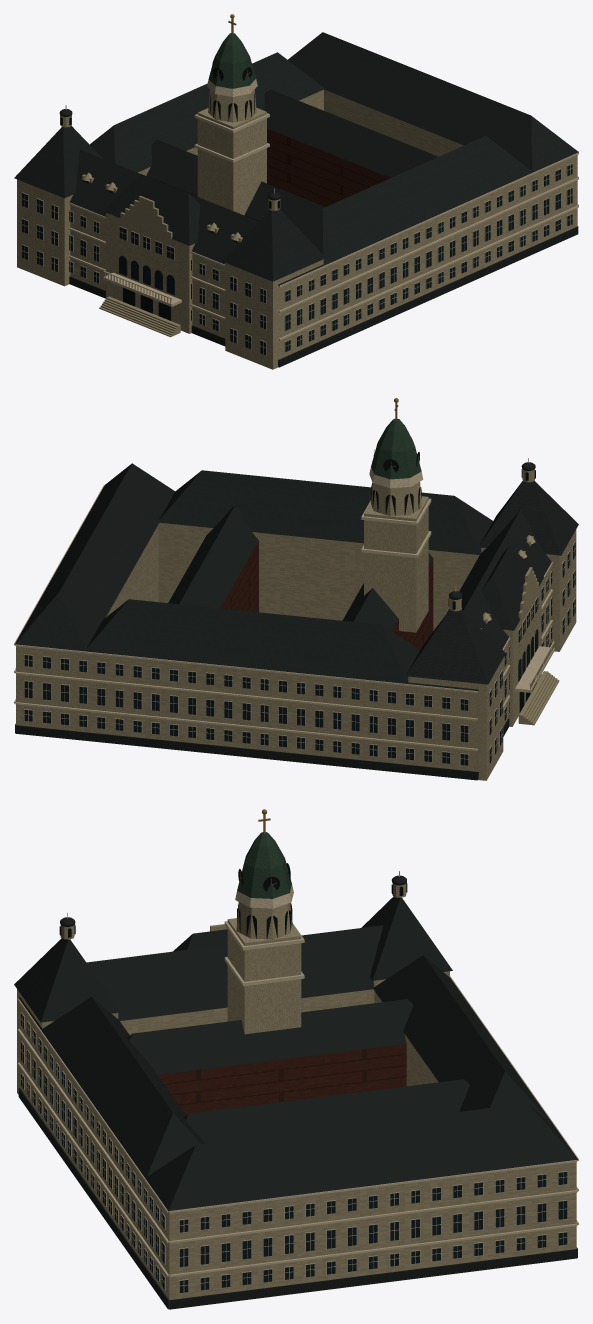
3 views of the same model, one above another, from view 1: azimuth 30°, elevation 25°; view 2: azimuth 150°, elevation 25°; view 3: azimuth 270°, elevation 25° (orthographic). The views are drawn at different scales.
Parts seen in each view (by area): view 1: stadhuis-1, stadhuis-0, stadhuis-5, stadhuis-6, stadhuis-2, stadhuis-8, stadhuis-7; view 2: stadhuis-1, stadhuis-0, stadhuis-5, stadhuis-6, stadhuis-2, stadhuis-8, stadhuis-7; view 3: stadhuis-1, stadhuis-0, stadhuis-5, stadhuis-6, stadhuis-2, stadhuis-8, stadhuis-7.
Part boxes in pixels (x1,y1,x2,y2): stadhuis-1: (14, 32, 578, 367); stadhuis-0: (17, 89, 577, 369); stadhuis-5: (22, 79, 578, 355); stadhuis-6: (22, 164, 572, 355); stadhuis-2: (146, 128, 390, 221); stadhuis-8: (208, 33, 255, 88); stadhuis-7: (60, 59, 279, 320); stadhuis-1: (15, 462, 578, 780); stadhuis-0: (16, 469, 576, 780); stadhuis-5: (14, 458, 575, 765); stadhuis-6: (24, 542, 575, 765); stadhuis-2: (220, 541, 433, 649); stadhuis-8: (371, 418, 421, 479); stadhuis-7: (371, 452, 536, 712); stadhuis-1: (14, 875, 577, 1309); stadhuis-0: (17, 883, 576, 1308); stadhuis-5: (17, 871, 578, 1293); stadhuis-6: (21, 1013, 567, 1292); stadhuis-2: (158, 1043, 406, 1115); stadhuis-8: (237, 832, 291, 898); stadhuis-7: (59, 863, 407, 938).
Size of the model in its own units: 129 by 71.35 by 114.
10 materials, 10 textured.
